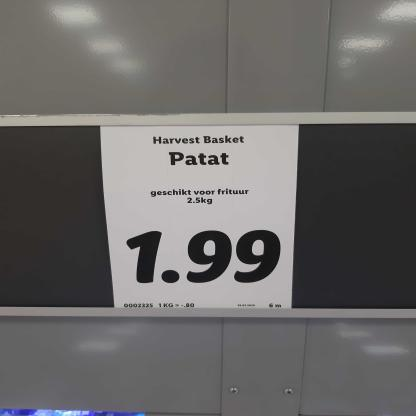prtg: (100, 126, 301, 310)
